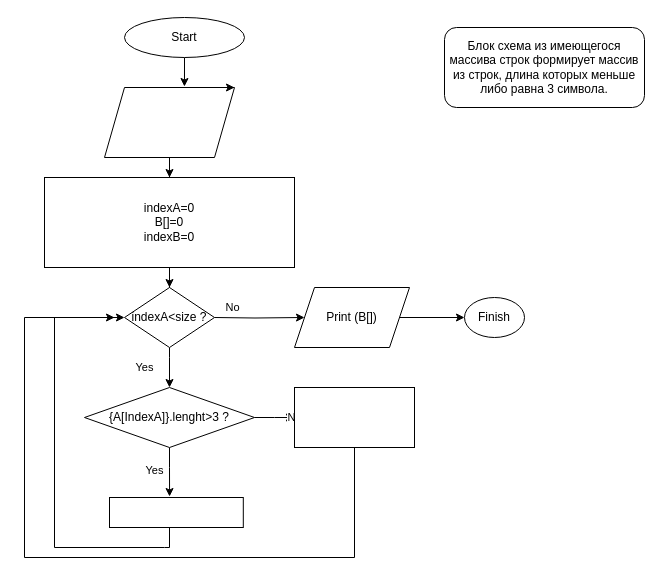
The diagram is 662 pixels wide and 583 high, and some of its shapes have lost their labels. Each missing label, with the centre of its shape:
B[indexB]=A[IndexA] indexB=indexB+1 indexA=indexA+1: the point at 354,417
indexA=indexA+1: the point at 175,512
Ввод A[] size: the point at 169,122
